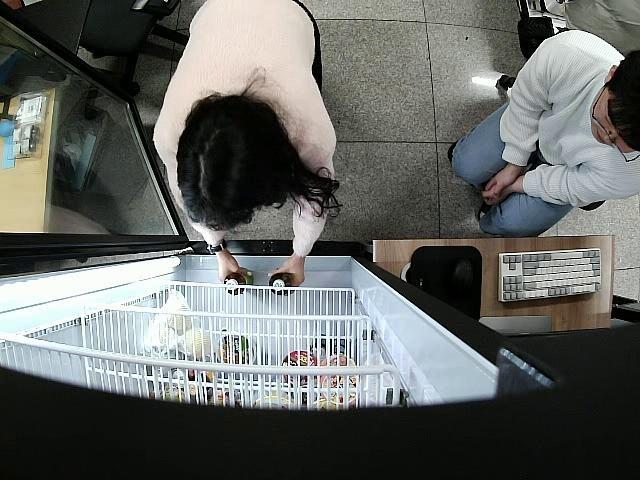19_17cha: (224, 266, 252, 300), (270, 271, 296, 298)
